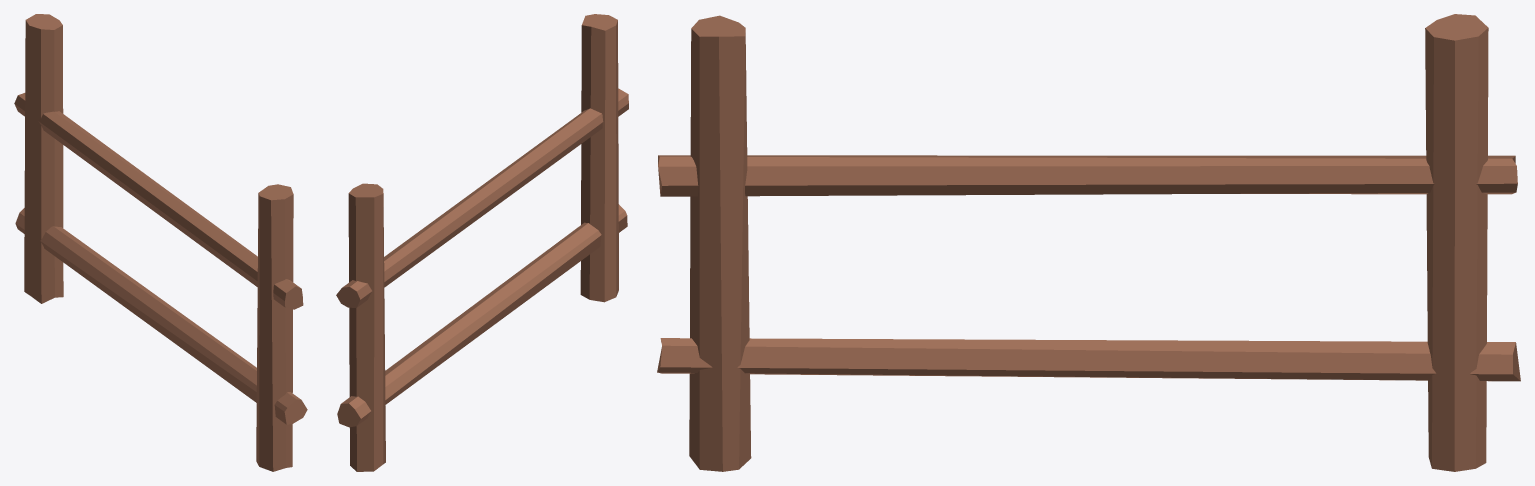
The model's file is Fence4.fbx.
The picture shows the model from 3 angles, left to right: view 1: azimuth 30°, elevation 25°; view 2: azimuth 150°, elevation 25°; view 3: azimuth 270°, elevation 25°; orthographic projection. The views are drawn at different scales.
Visible parts, largest first — view 1: Fence 4; view 2: Fence 4; view 3: Fence 4.
Part boxes in pixels (box(x1,y1,x2,y2)): Fence 4: box(14, 14, 307, 471); Fence 4: box(336, 14, 628, 471); Fence 4: box(657, 14, 1520, 471).
Bounding box in the file's own units: 5.03 × 39.93 × 71.51.
